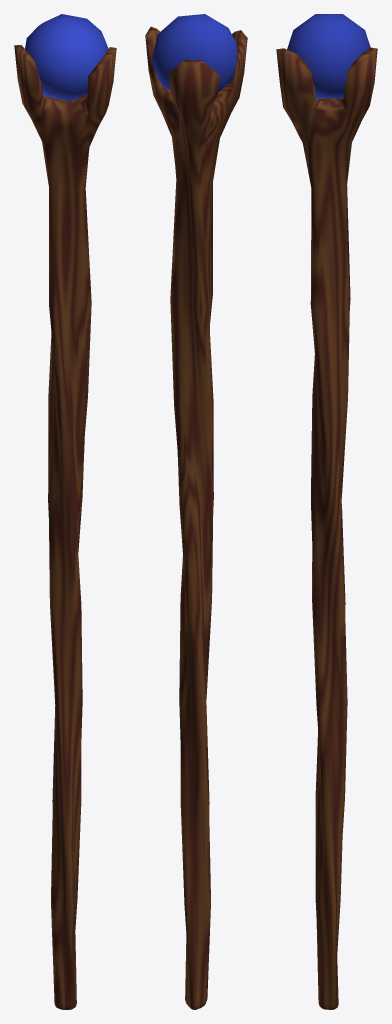
Rendered from arcane_staff.glb.
3 views of the same model, side by side, from view 1: azimuth 30°, elevation 25°; view 2: azimuth 210°, elevation 25°; view 3: azimuth 270°, elevation 25° (orthographic).
Parts seen in each view (by area): view 1: SWS; view 2: SWS; view 3: SWS.
Part boxes in pixels (bbox=[...]): SWS: bbox=[14, 14, 116, 1009]; SWS: bbox=[145, 14, 247, 1009]; SWS: bbox=[276, 14, 377, 1009].
Size of the model in its own units: 0.175 by 2 by 0.185.
Materials: 1 (1 with a texture image).
